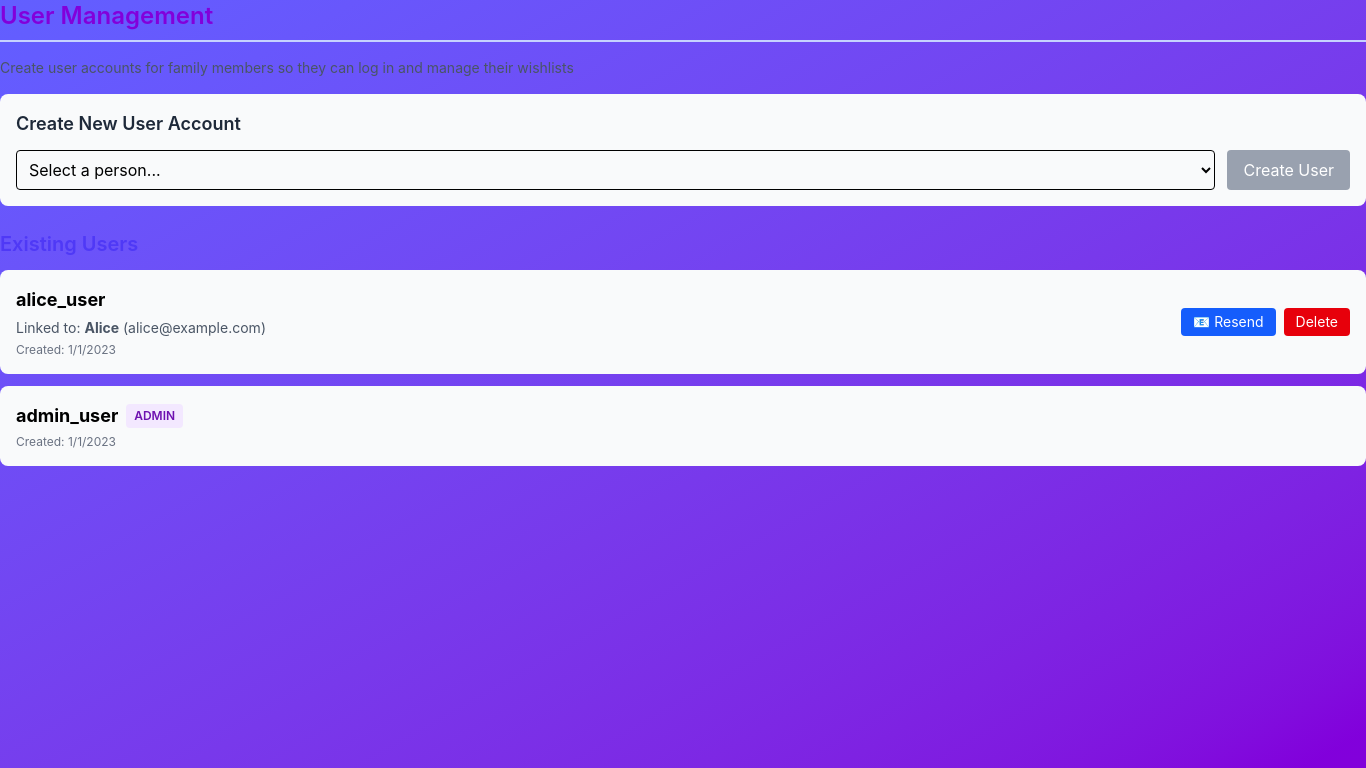
Test: User Management Page › creates a new user
The image size is (1366, 768).
Select "Bob (bob@example.com)" in the dropdown at (616, 170), box [16,150,1216,190]
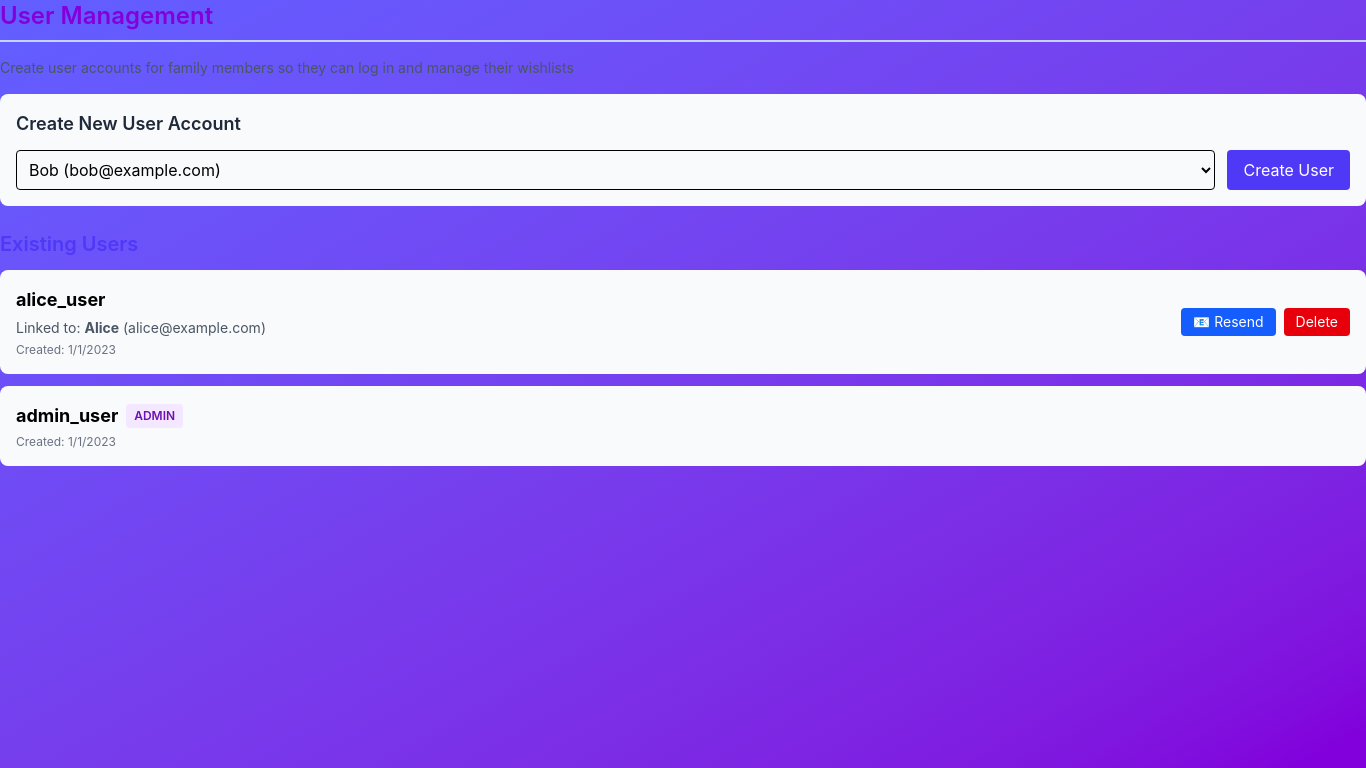
Click the button "Create User" at (1289, 170), box [1228,150,1350,190]
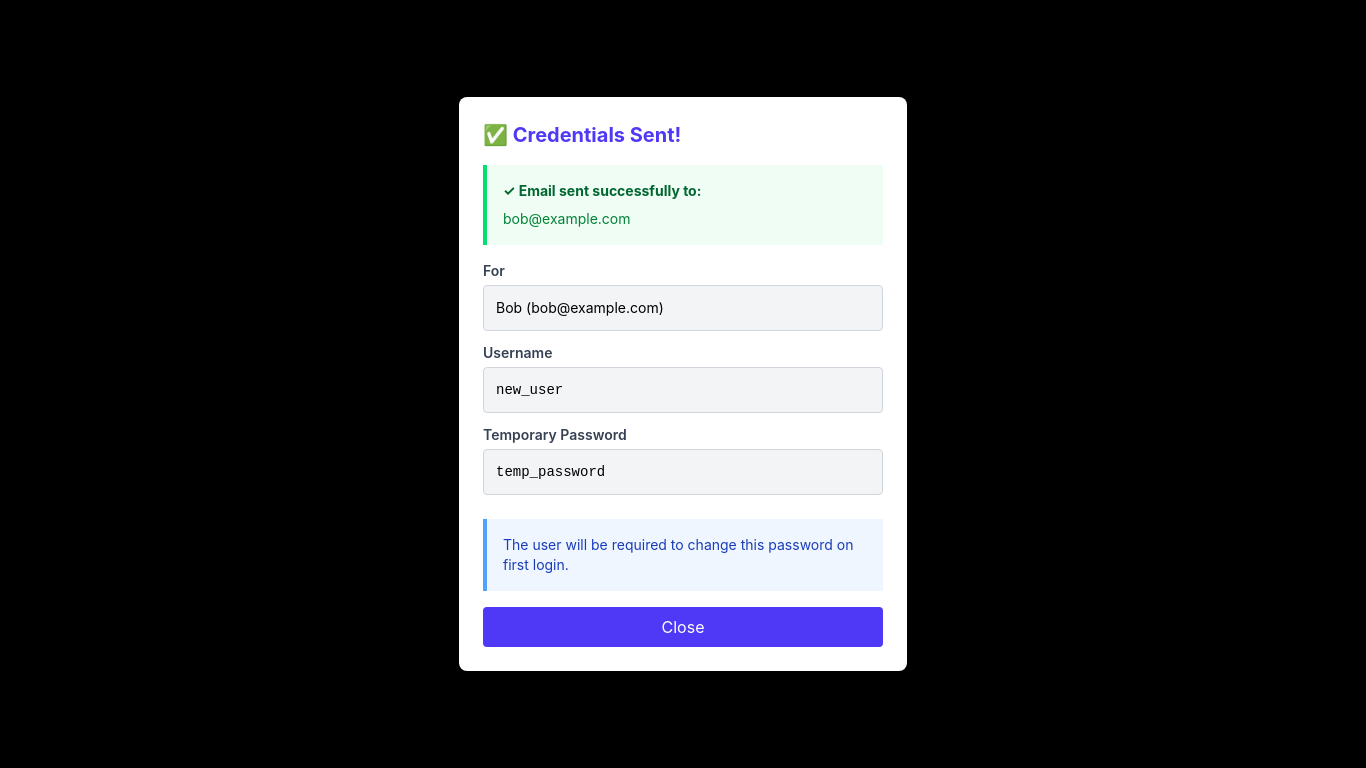
Now the heading "✅ Credentials Sent!" is shown, box [483,123,681,147]
Now the text "new_user" is shown, box [483,367,883,413]
Now the text "temp_password" is shown, box [483,449,883,495]
